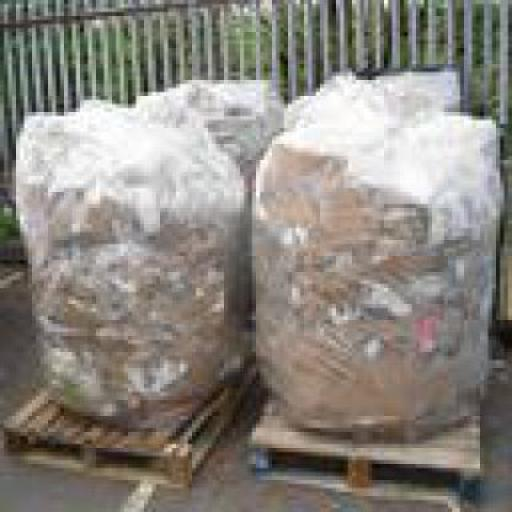cardboard: (248, 140, 484, 444), (16, 180, 252, 428), (204, 116, 276, 164)
paper: (276, 64, 496, 220), (12, 97, 232, 184), (128, 72, 268, 124), (368, 64, 457, 108)
